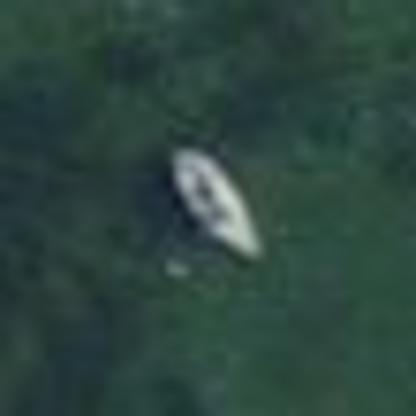ship: (156, 137, 298, 281)
